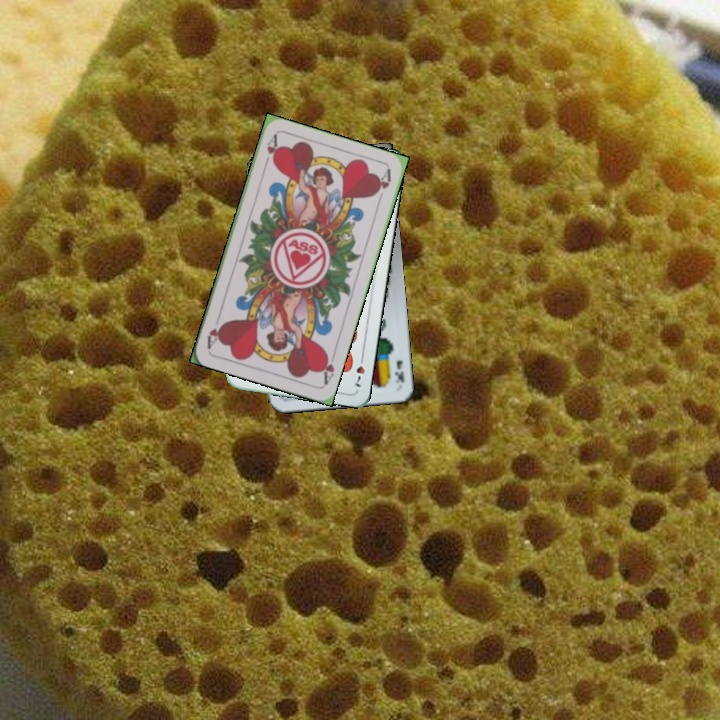EK: (391, 356, 406, 385)
H7: (351, 351, 367, 389)
HA: (317, 347, 338, 387), (260, 131, 281, 171)
